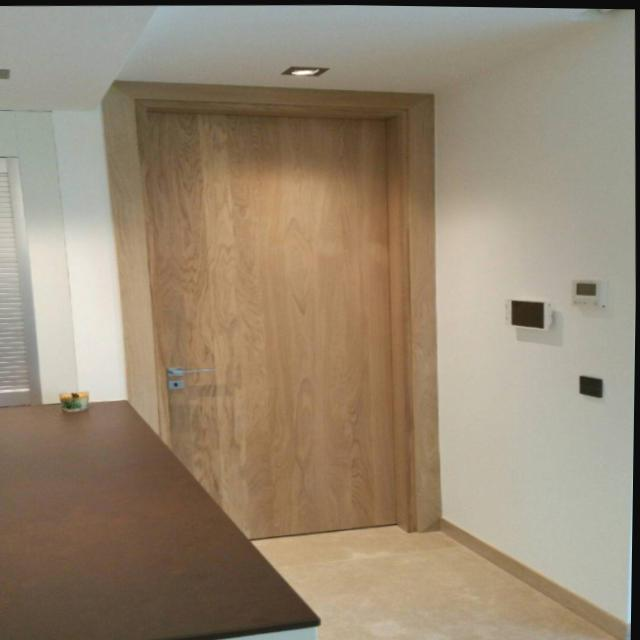close: (84, 69, 455, 544)
